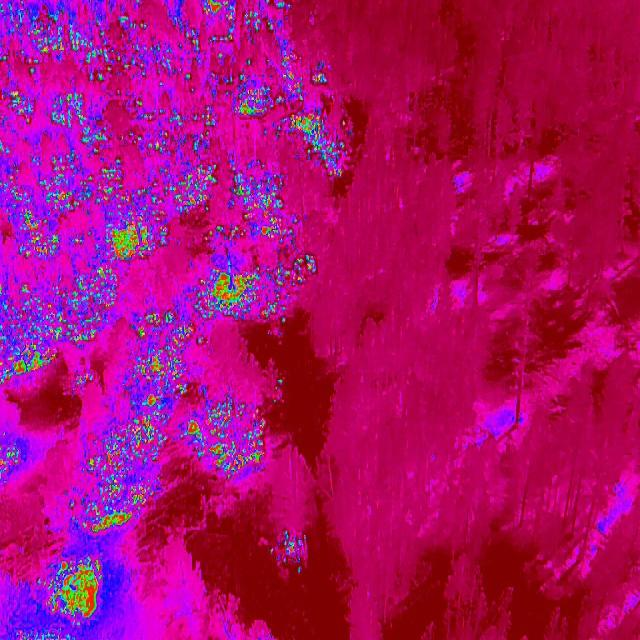fire: (206, 24, 346, 178), (0, 11, 196, 117), (95, 116, 218, 266), (0, 264, 122, 386), (0, 135, 93, 260), (180, 253, 320, 323), (179, 392, 268, 482), (131, 310, 199, 414), (216, 164, 300, 245), (84, 400, 168, 478), (78, 474, 156, 538), (46, 555, 108, 623), (202, 1, 284, 26), (270, 527, 306, 573), (0, 424, 24, 488), (273, 377, 284, 391)
